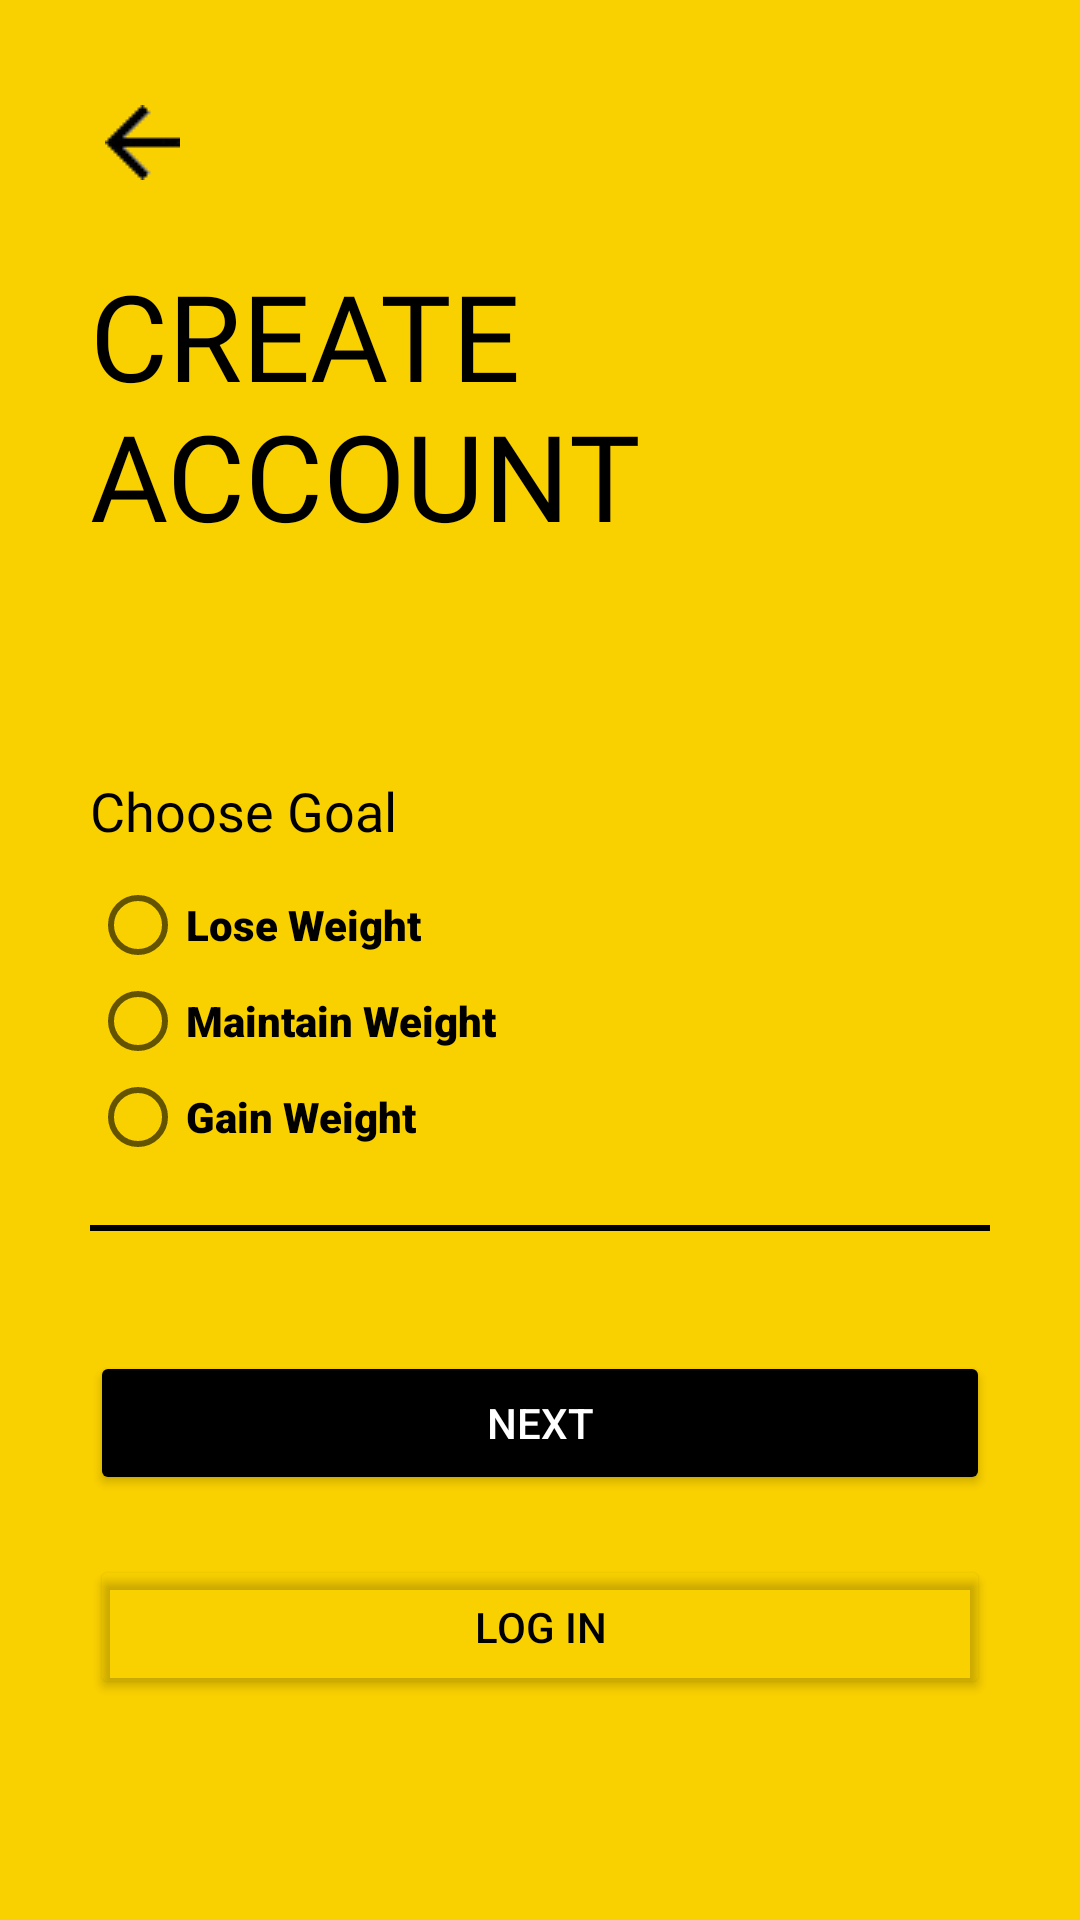

Icons on this 1080w x 1920h Android screen, each with its box as [x1=x1, y1=y1, x2=x2, y2=y2]:
general back: [x1=105, y1=105, x2=180, y2=180]
